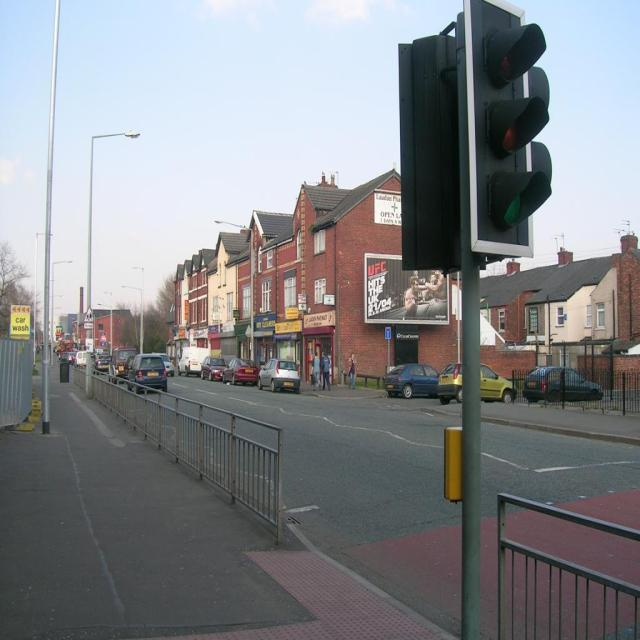off traffic light: (465, 0, 551, 256)
